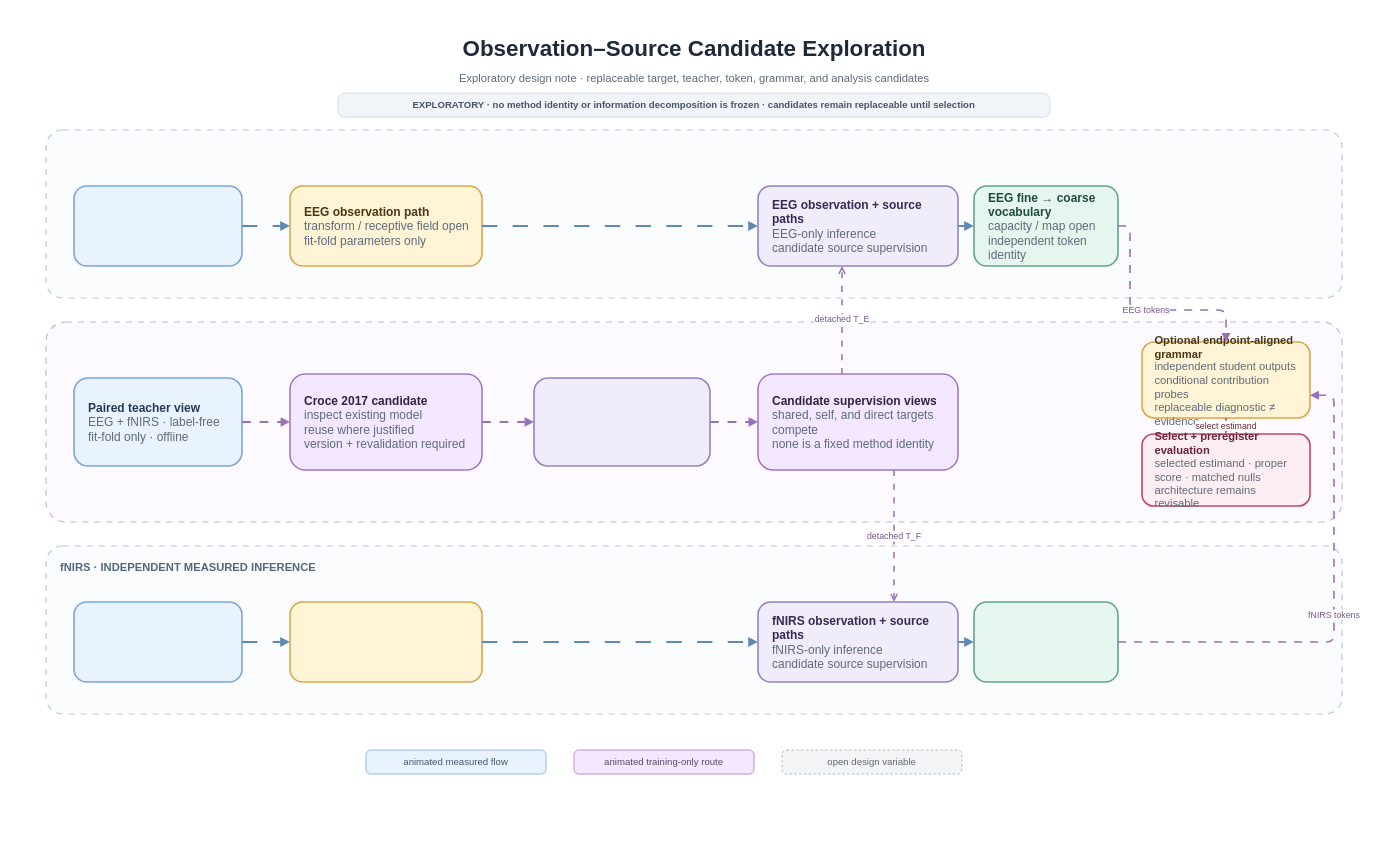
This 1387x843 diagram has some shape labels left out. The box of each missing label's shape, as (x1, y1, x2, y2) in pixels:
EEG · INDEPENDENT MEASURED INFERENCE: (45, 129, 1342, 298)
fNIRS fine → coarse vocabulary capacity / map open independent token identity: (973, 601, 1118, 682)
fNIRS observation path transform / receptive field open fit-fold parameters only: (289, 601, 482, 682)
Measured EEG versioned measured branch recorded support + provenance: (73, 185, 242, 266)
Measured fNIRS versioned measured branch recorded support + provenance: (73, 601, 242, 682)
Shared neural activity jointly constrained state form / dimension / rank open: (533, 377, 710, 466)
TRAINING-ONLY · CROCE CHECK / REUSE + SHARED-SOURCE SUPERVISION: (45, 321, 1342, 522)
